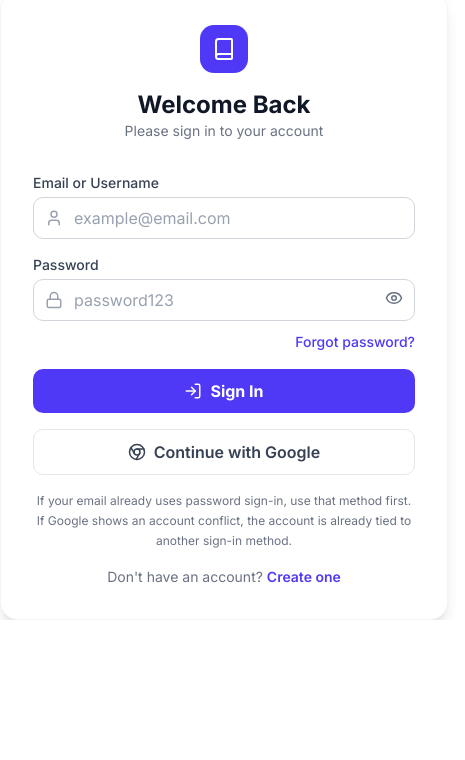
LoginForm Component › switches to create account mode
Click the button "Create one" at (304, 577), box left=267, top=567, right=341, bottom=587
(page scrolled)
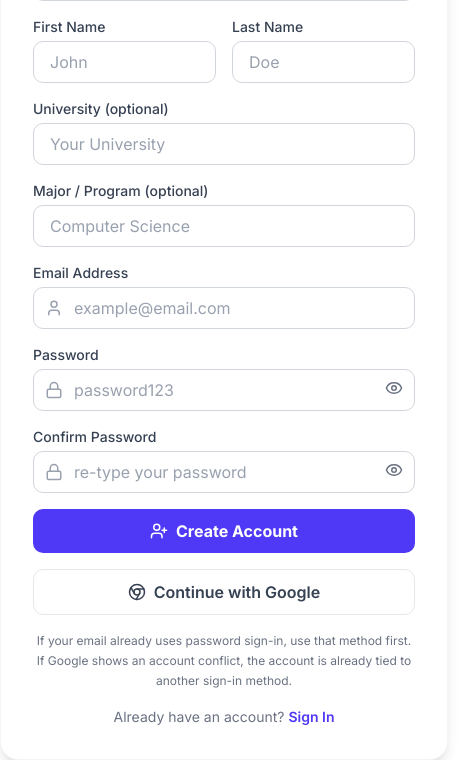
Expected: the button "Create Account" is shown, left=33, top=509, right=415, bottom=553
